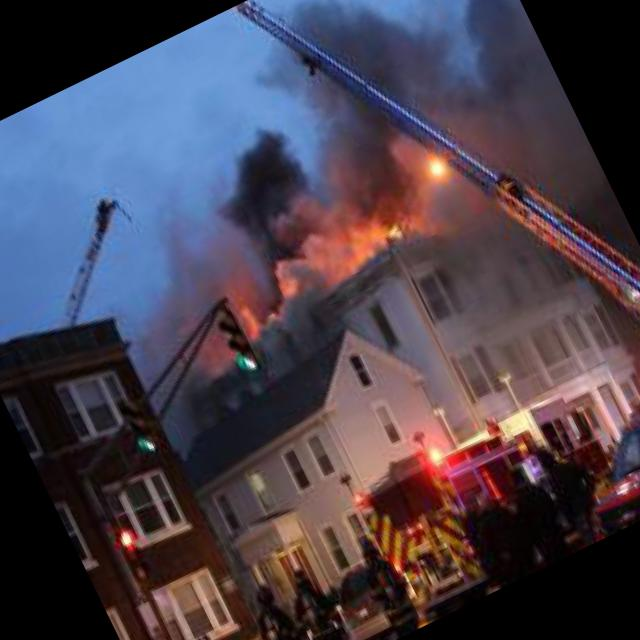smoke: (112, 79, 410, 314), (316, 0, 557, 249), (225, 249, 352, 380), (310, 199, 440, 307)
